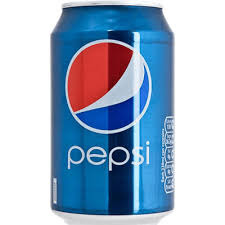pepsi: (49, 1, 175, 225)
